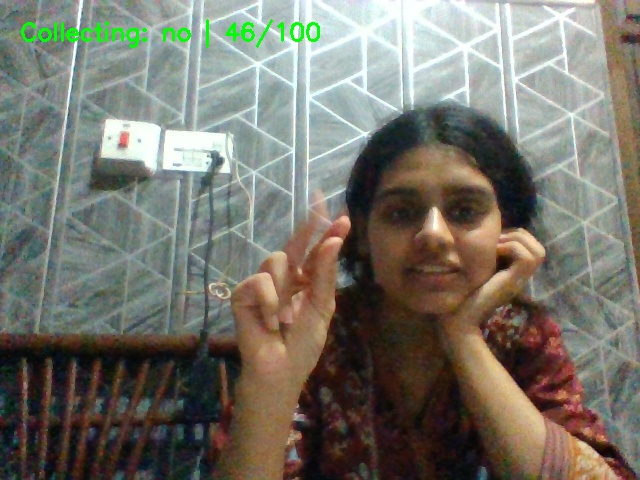no: (218, 181, 380, 457)
